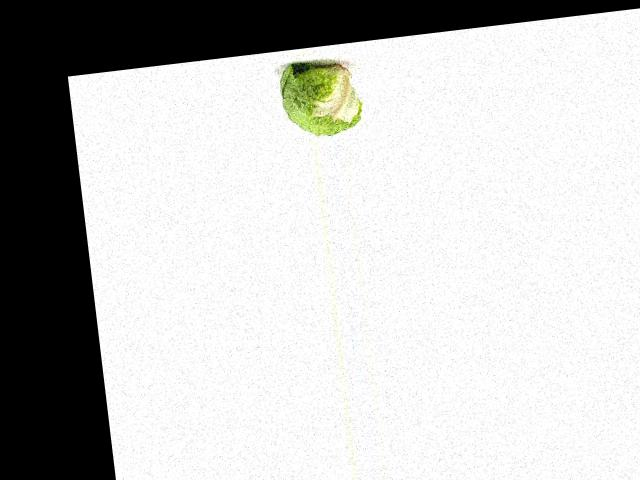lettuce: (275, 52, 367, 140)
